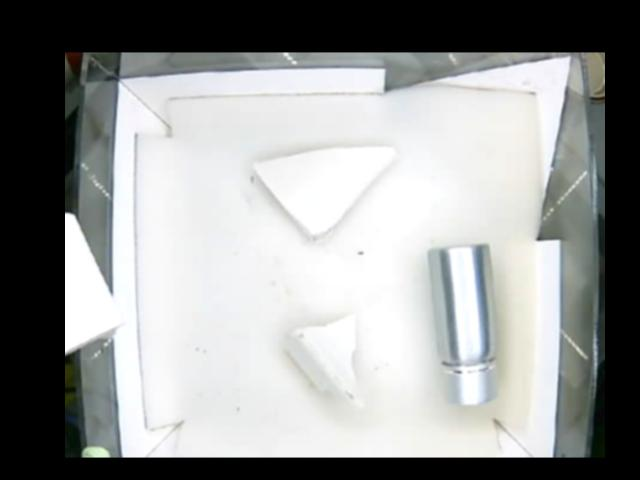Bottle: (429, 244, 497, 406)
China: (257, 146, 399, 237), (289, 309, 367, 409)
